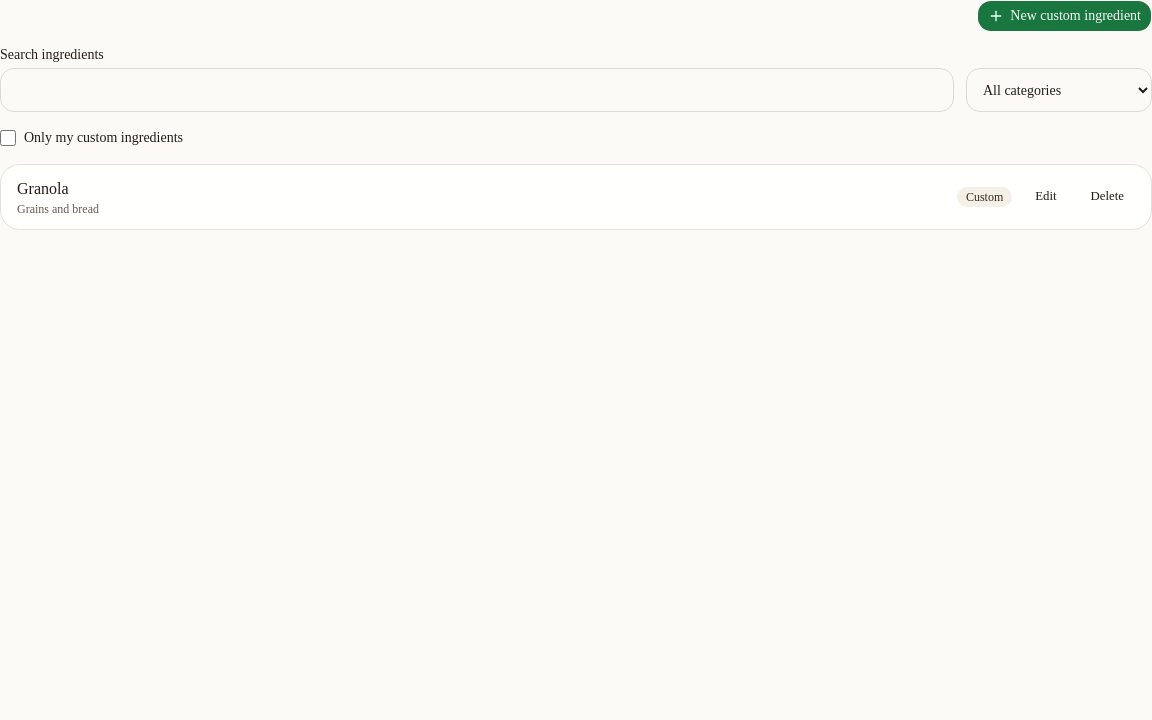
editing › saves with all 18 nutrients, so the ones the form does not show are not erased, and refreshes what depends on them
This screenshot has width=1152, height=720.
Click the button with aria-label "Edit Granola" at (1046, 197), box left=1024, top=183, right=1068, bottom=211
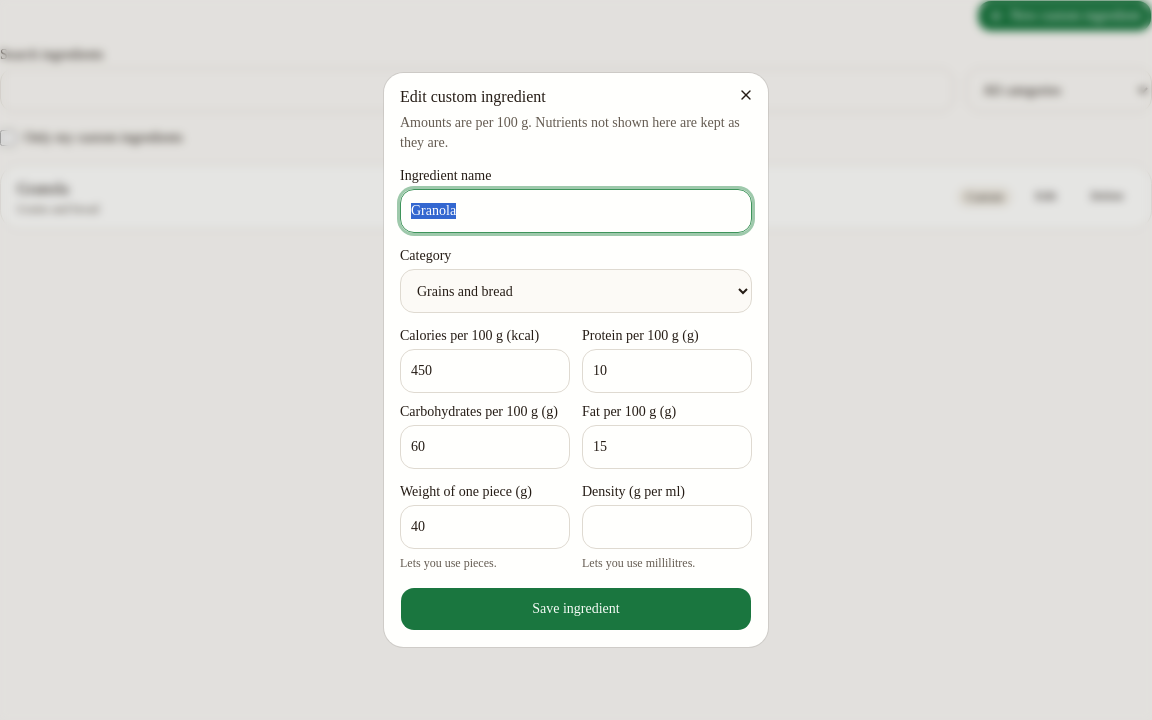
Replace the text in the field labelled "Ingredient name" with "Crunchy granola" at (576, 211), box left=400, top=189, right=752, bottom=233
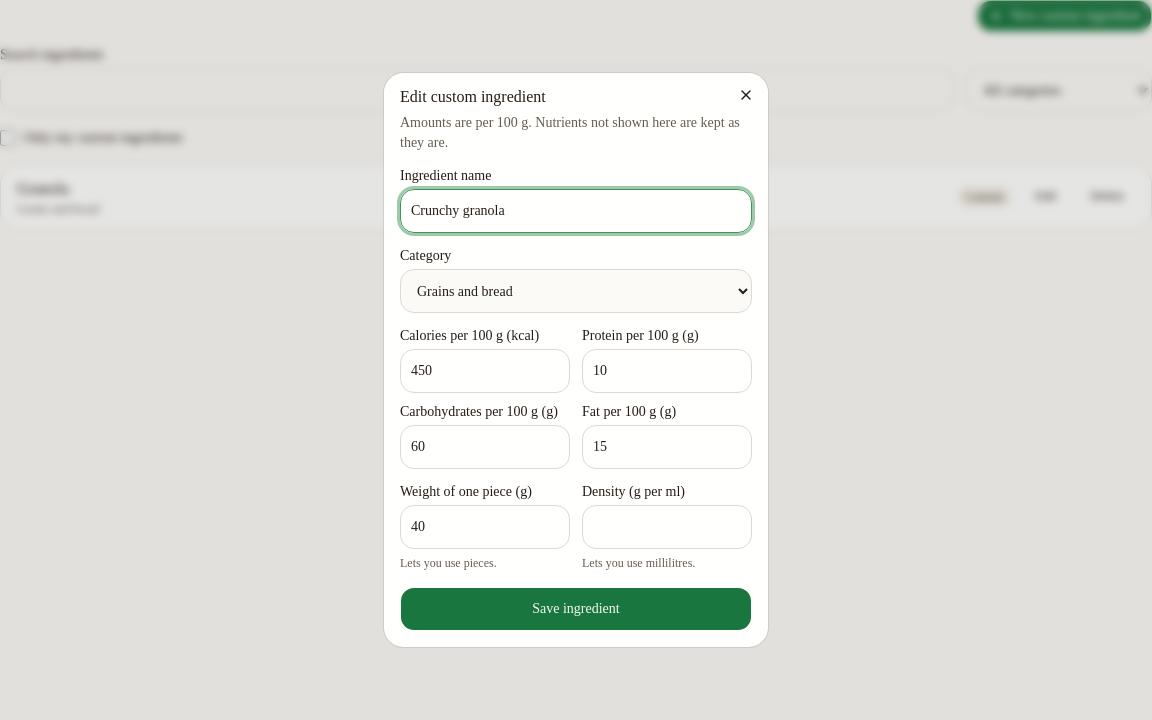
Click the button "Save ingredient" at (576, 609), box left=400, top=587, right=752, bottom=631
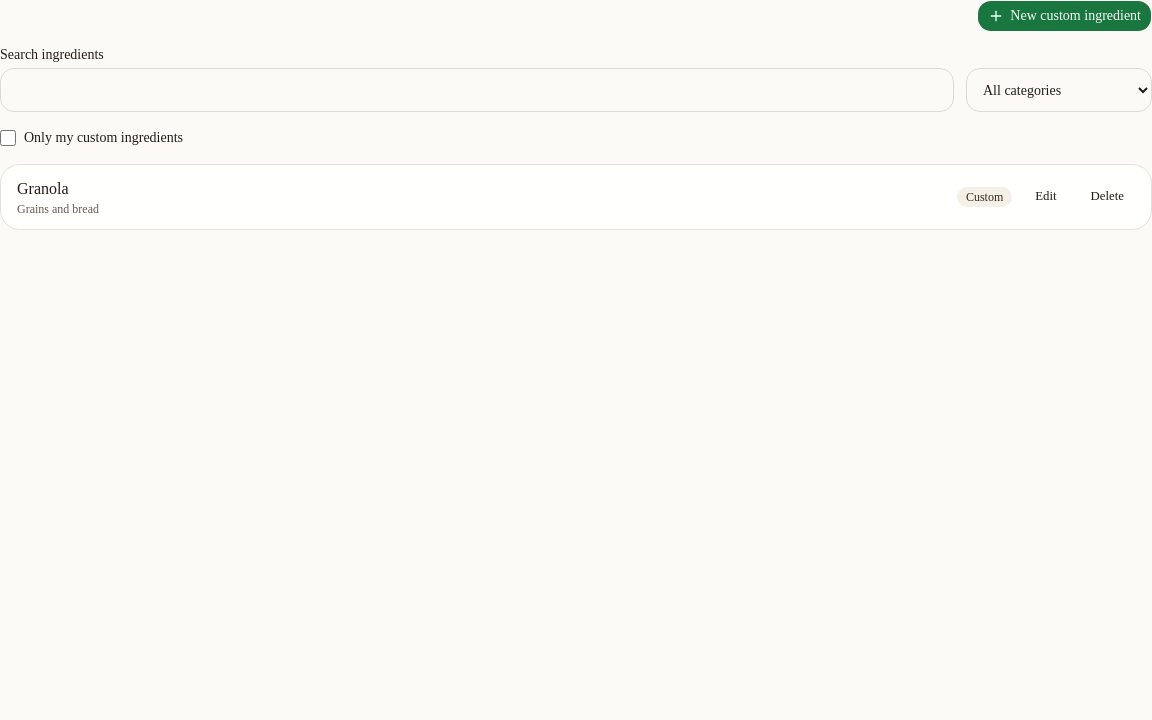
Result: the dialog is gone
